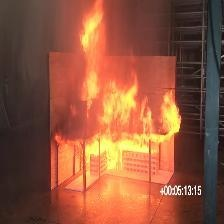fire: (47, 1, 186, 187)
